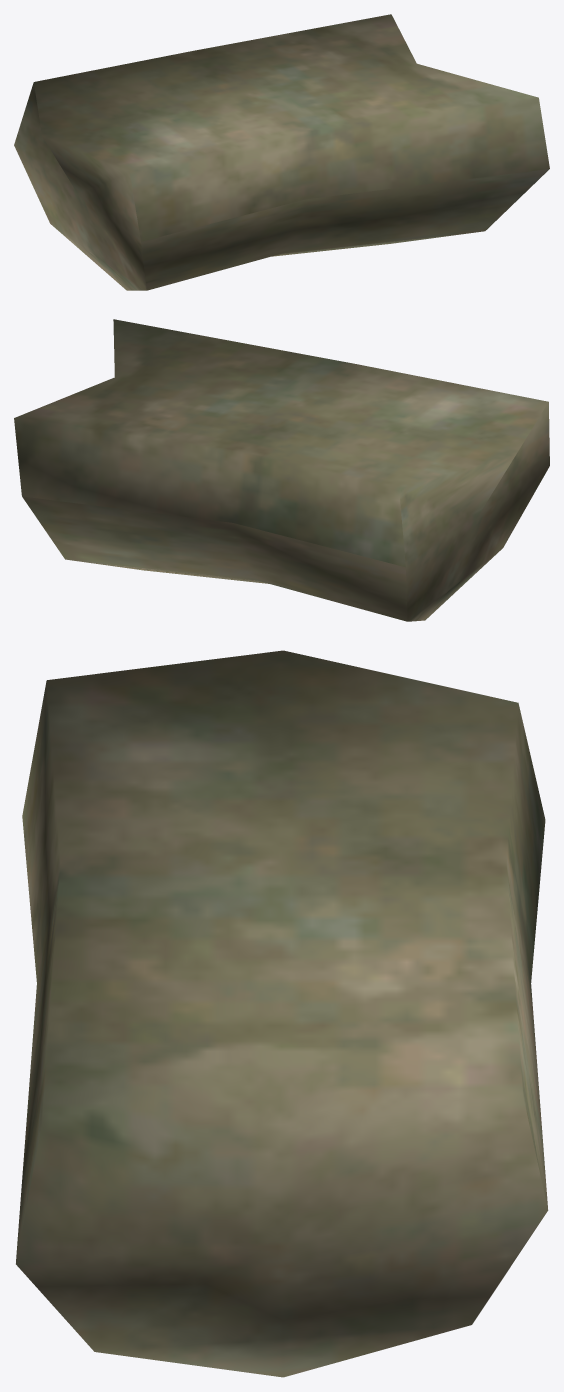
The model's file is ANIMATEDINSTANCES_CAVE_BRIDGE_202__AI.fbx.
The picture shows the model from 3 angles, top to bottom: view 1: azimuth 30°, elevation 25°; view 2: azimuth 150°, elevation 25°; view 3: azimuth 270°, elevation 25°; orthographic projection. The views are drawn at different scales.
Parts seen in each view (by area): view 1: ANIMATEDINSTANCES_CAVE_BRIDGE_202__AI; view 2: ANIMATEDINSTANCES_CAVE_BRIDGE_202__AI; view 3: ANIMATEDINSTANCES_CAVE_BRIDGE_202__AI.
Part boxes in pixels (x1,y1,x2,y2): ANIMATEDINSTANCES_CAVE_BRIDGE_202__AI: (14,14,549,290); ANIMATEDINSTANCES_CAVE_BRIDGE_202__AI: (14,319,549,621); ANIMATEDINSTANCES_CAVE_BRIDGE_202__AI: (16,650,548,1377).
Size of the model in its own units: 15166 by 6346 by 7928.
1 material, 1 textured.
